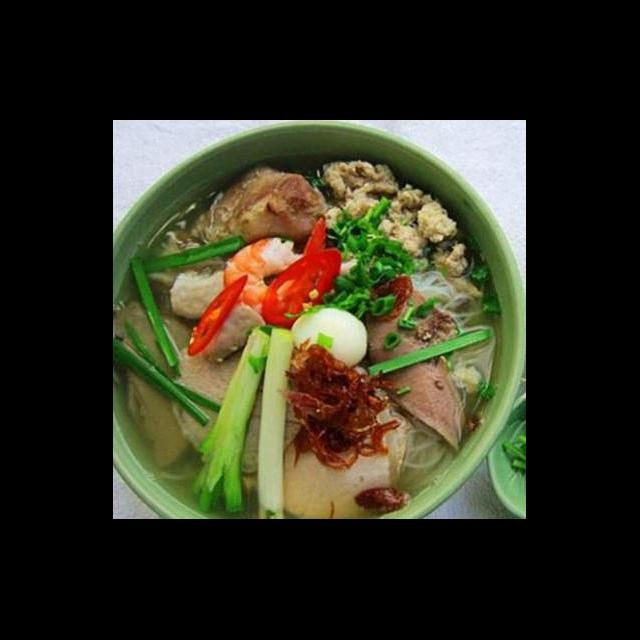gan: (164, 300, 316, 480), (354, 274, 470, 454), (115, 286, 218, 478)
hu tieu: (402, 264, 500, 332), (392, 408, 458, 496)
thit bam: (306, 156, 486, 300)
tom: (218, 232, 330, 328)
trung: (288, 304, 372, 370)
